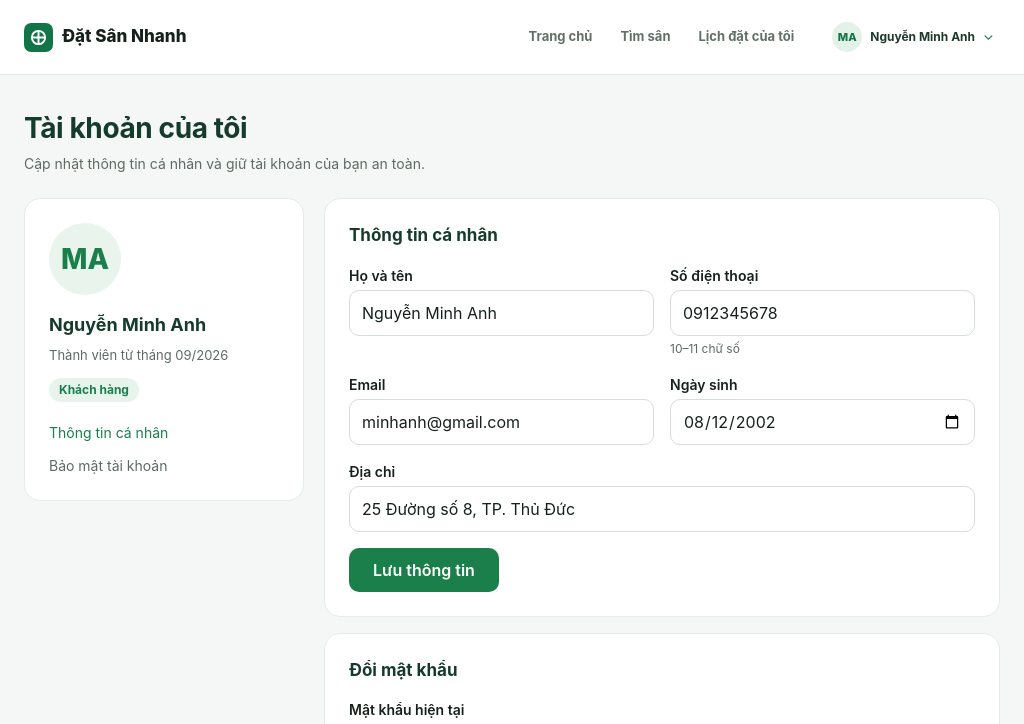
AccountPage › lưu chỉ gửi trường đã đổi và cập nhật tên trên thanh đầu trang
This screenshot has width=1024, height=724.
Step 1. Replace the text in the field labelled "Họ và tên" with "Trần Văn B" → (502, 312), box [350,290,653,334]
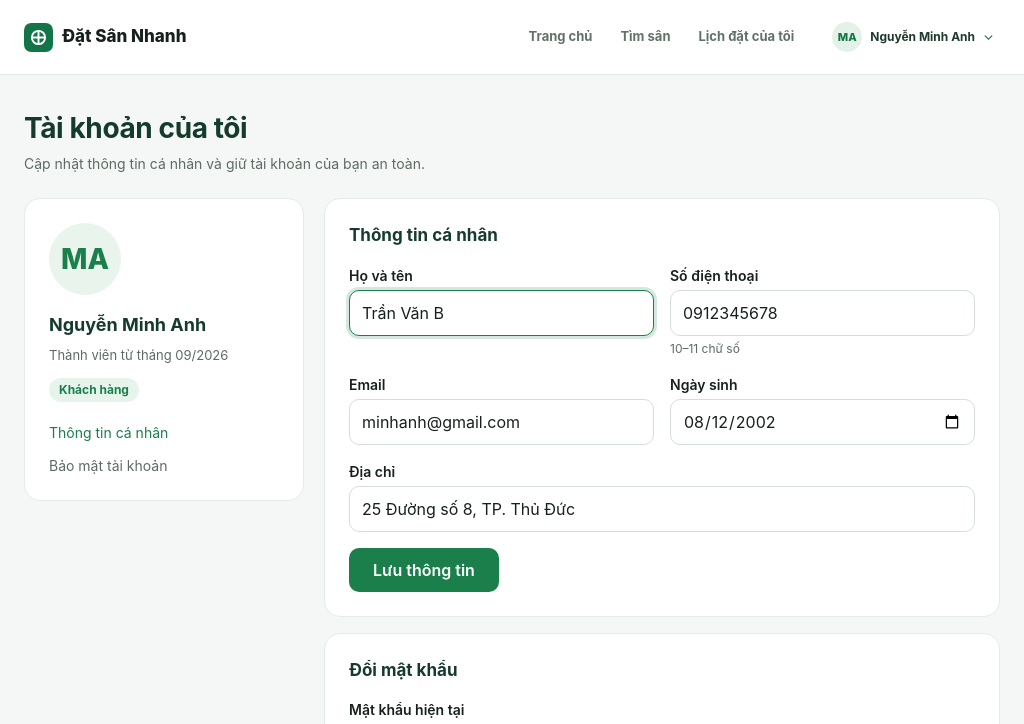
Step 2. Click the button "Lưu thông tin" → (424, 570), box [349,548,499,592]
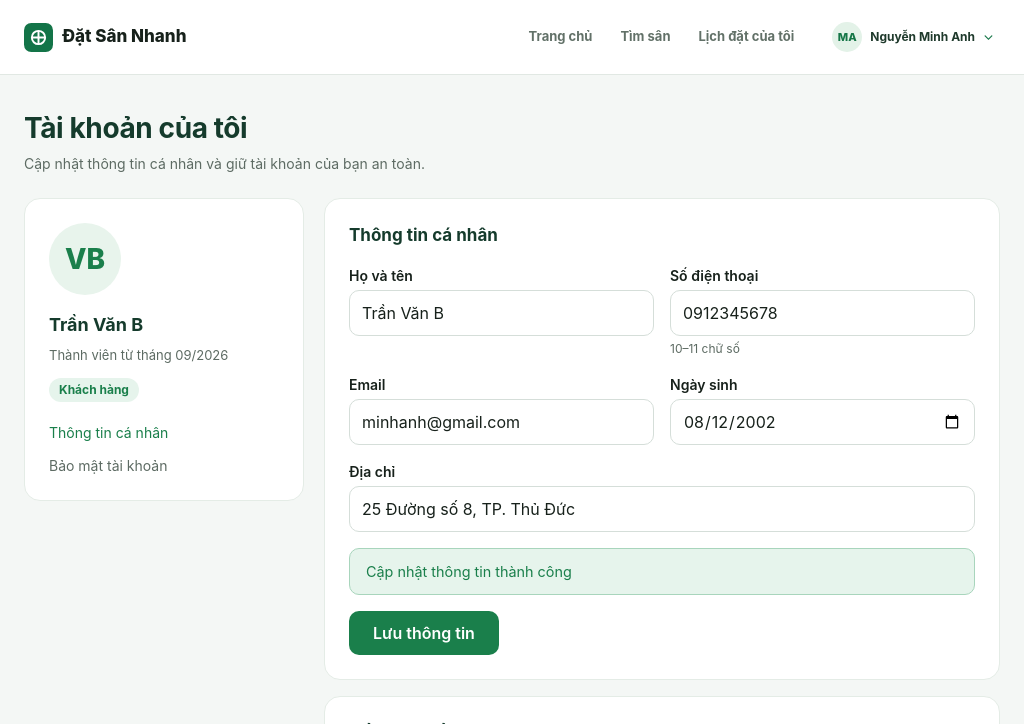
Result: the text "Cập nhật thông tin thành công" is shown at [349,548,975,595]
